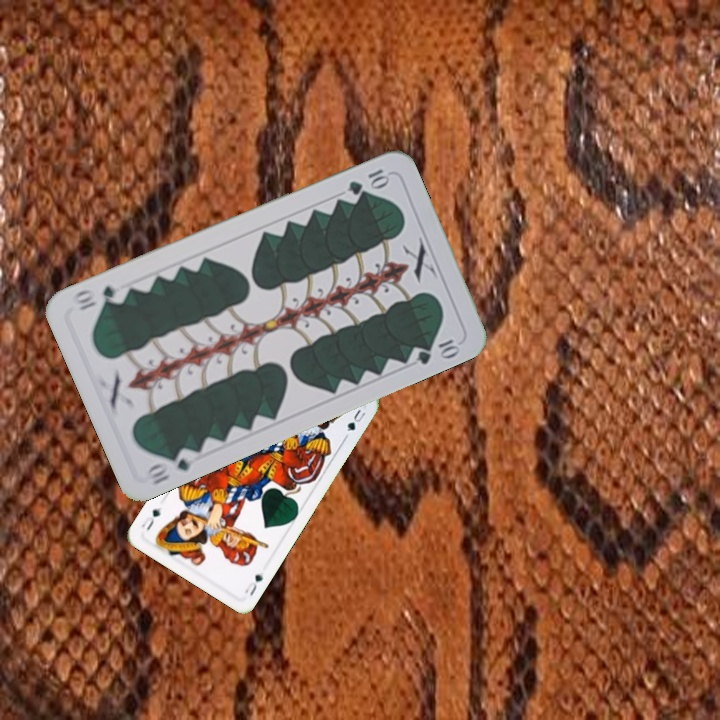G10: (143, 444, 200, 487), (344, 165, 392, 198)
GU: (241, 570, 266, 598)
